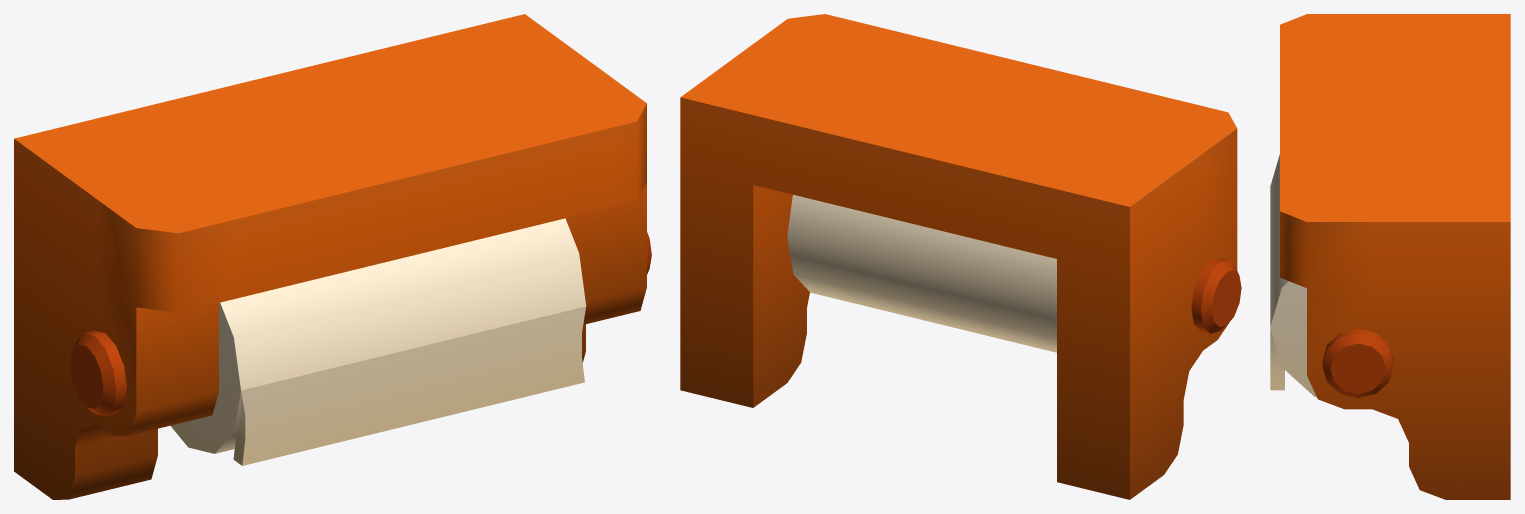
The model's file is Tissue_02.fbx.
The picture shows the model from 3 angles, left to right: view 1: azimuth 30°, elevation 25°; view 2: azimuth 150°, elevation 25°; view 3: azimuth 270°, elevation 25°; orthographic projection. The views are drawn at different scales.
Visible parts, largest first — view 1: Tissue_02; view 2: Tissue_02; view 3: Tissue_02.
Boxes of the visible parts, bbox=[...] form: Tissue_02: bbox=[14, 14, 651, 499]; Tissue_02: bbox=[680, 14, 1241, 499]; Tissue_02: bbox=[1270, 14, 1510, 499].
Bounding box in the file's own units: 107 × 62.27 × 48.86.
